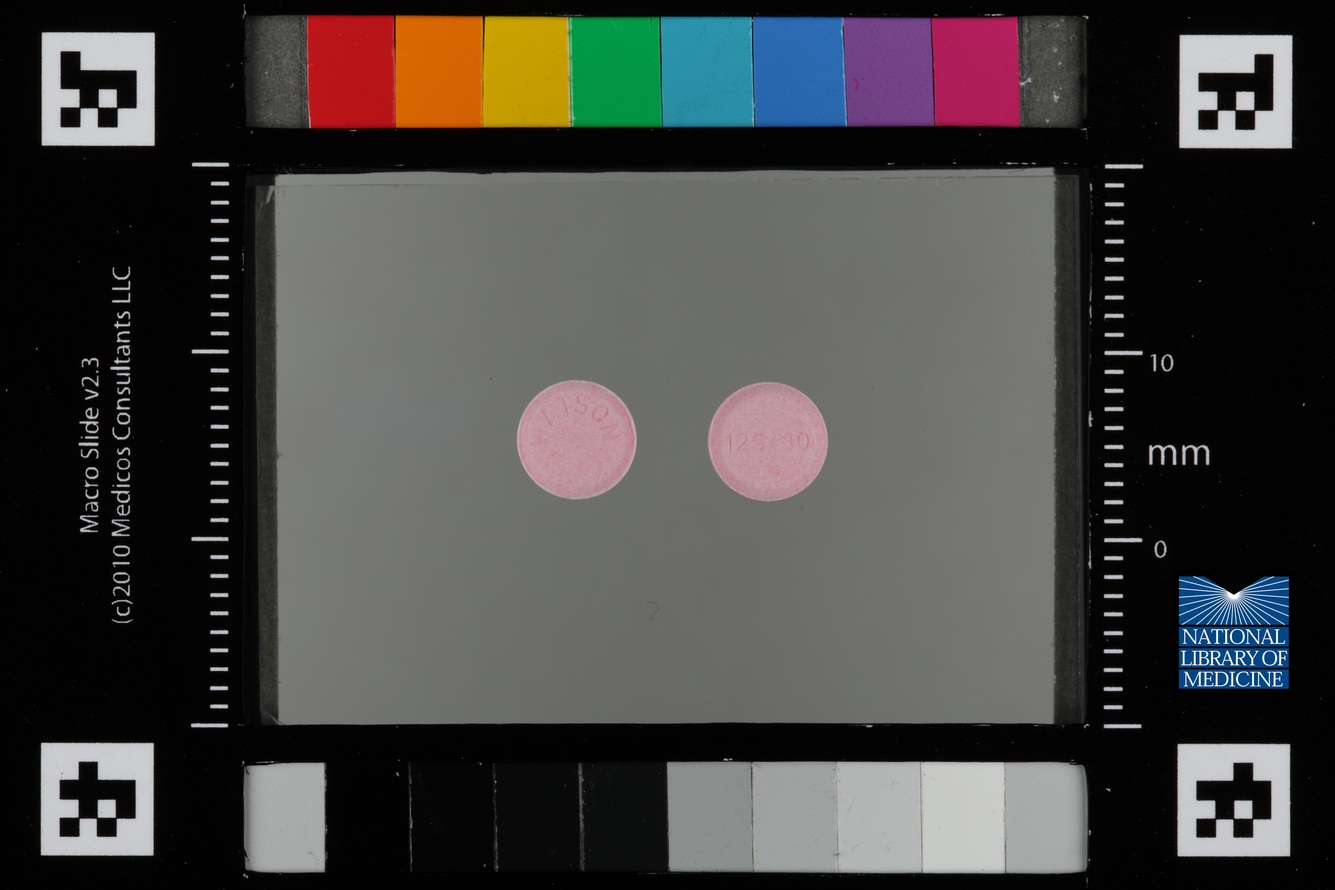Pill: (697, 376, 839, 509), (509, 378, 648, 506)
